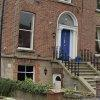stairs: (58, 61, 100, 76), (77, 76, 100, 99)
